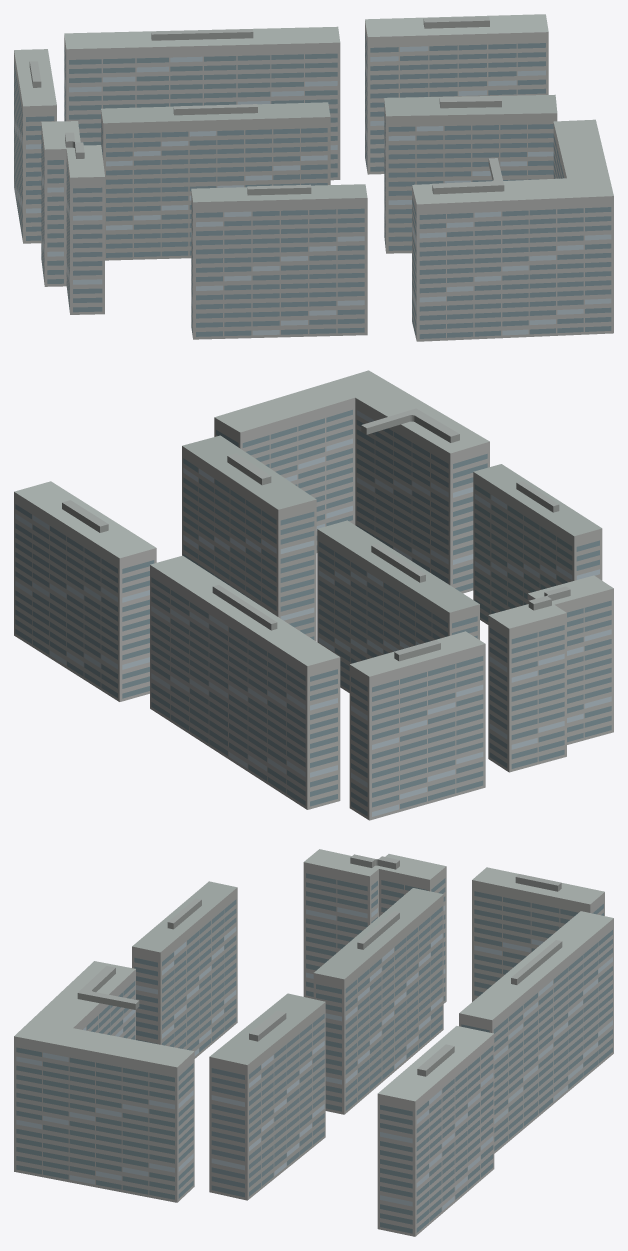
Rendered from apt-a15679105.glb.
3 views of the same model, one above another, from view 1: azimuth 30°, elevation 25°; view 2: azimuth 150°, elevation 25°; view 3: azimuth 270°, elevation 25° (orthographic). The views are drawn at different scales.
Visible parts, largest first — view 1: apt-a15679105; view 2: apt-a15679105; view 3: apt-a15679105.
Part boxes in pixels (box(x1,y1,x2,y2)): apt-a15679105: box(14, 14, 613, 341); apt-a15679105: box(14, 370, 613, 820); apt-a15679105: box(14, 849, 613, 1236).
Bounding box in the file's own units: 183 × 47.81 × 184.
